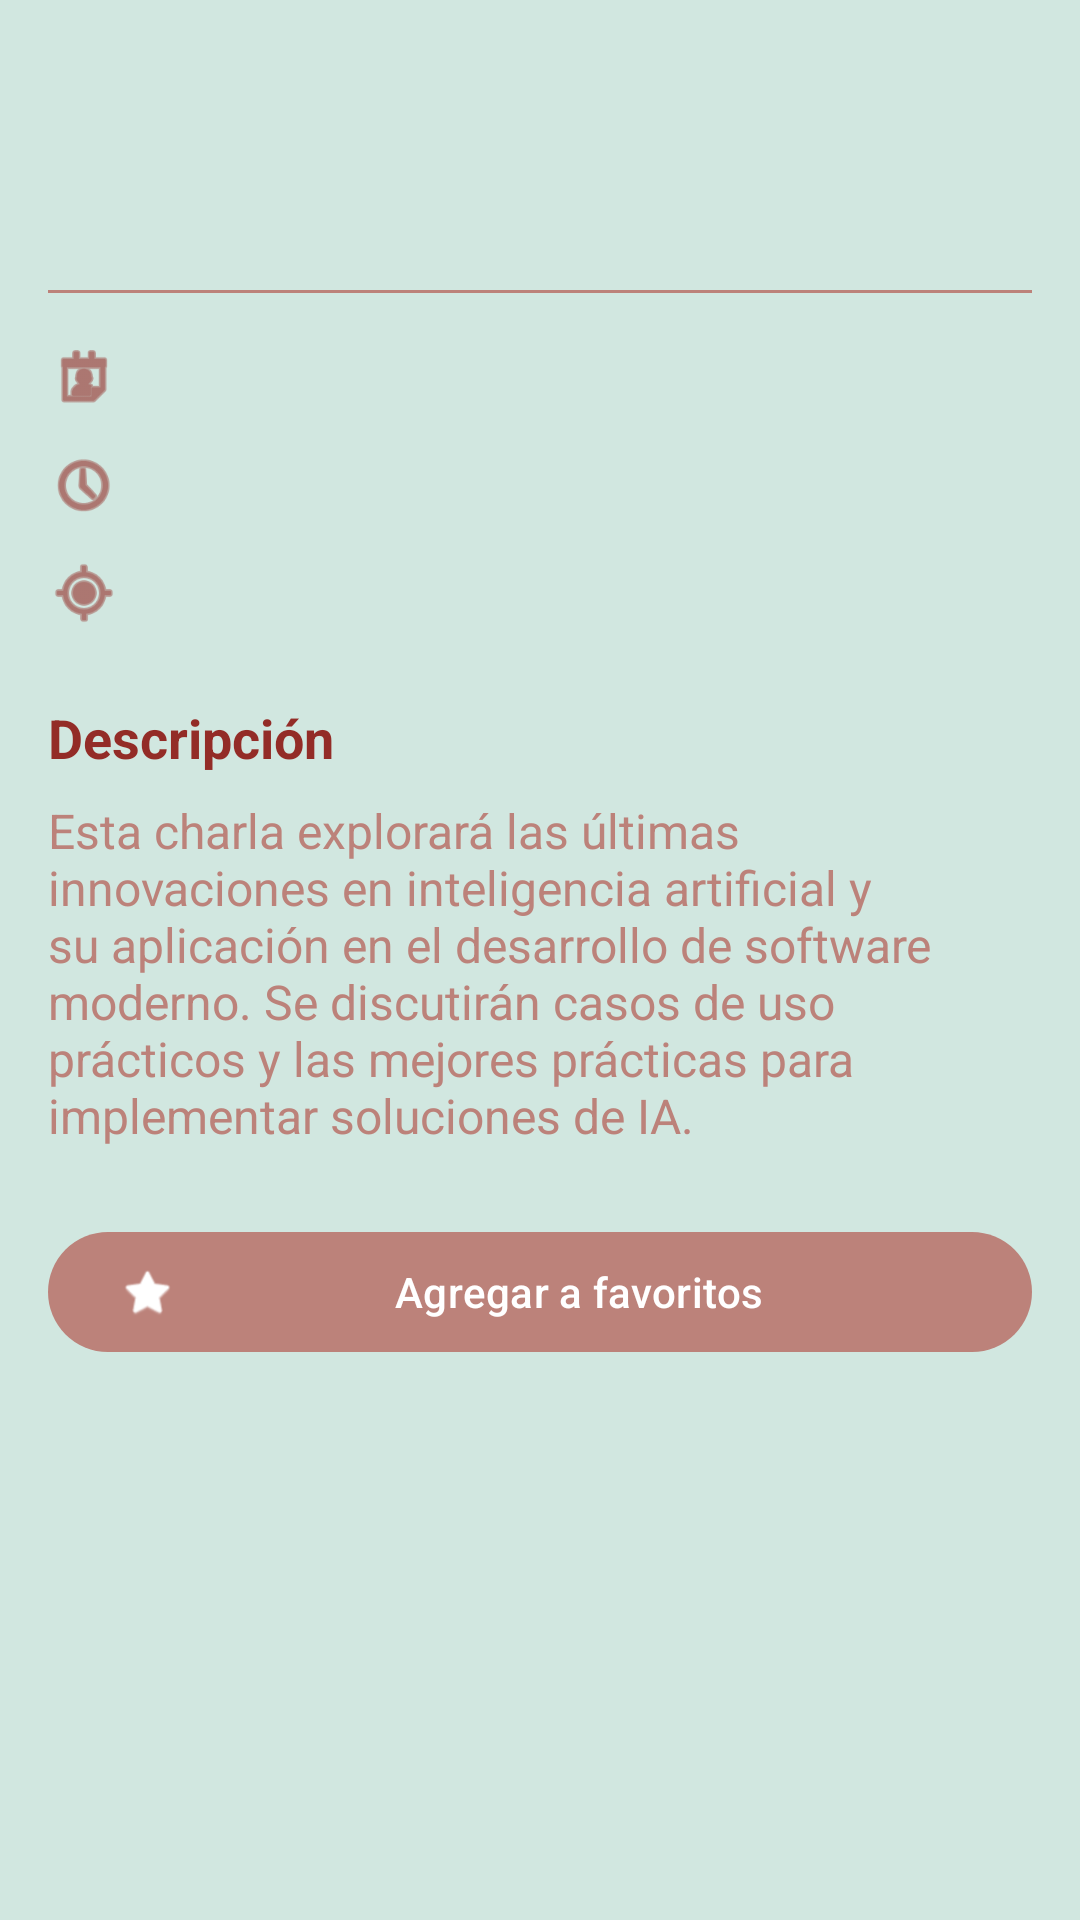

Icon bounding boxes for this 1080*1920 phone screenshot, format Rect(x1, y1, x2, y2):
calendar: Rect(61, 350, 107, 403)
mylocation: Rect(55, 564, 113, 622)
recent history: Rect(58, 459, 110, 511)
